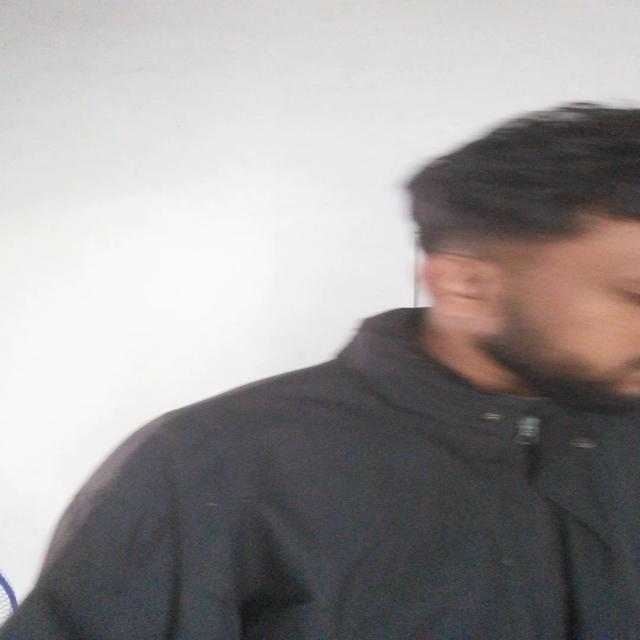Jacket_Wearer: (1, 276, 640, 640)
Person: (49, 101, 640, 640)
